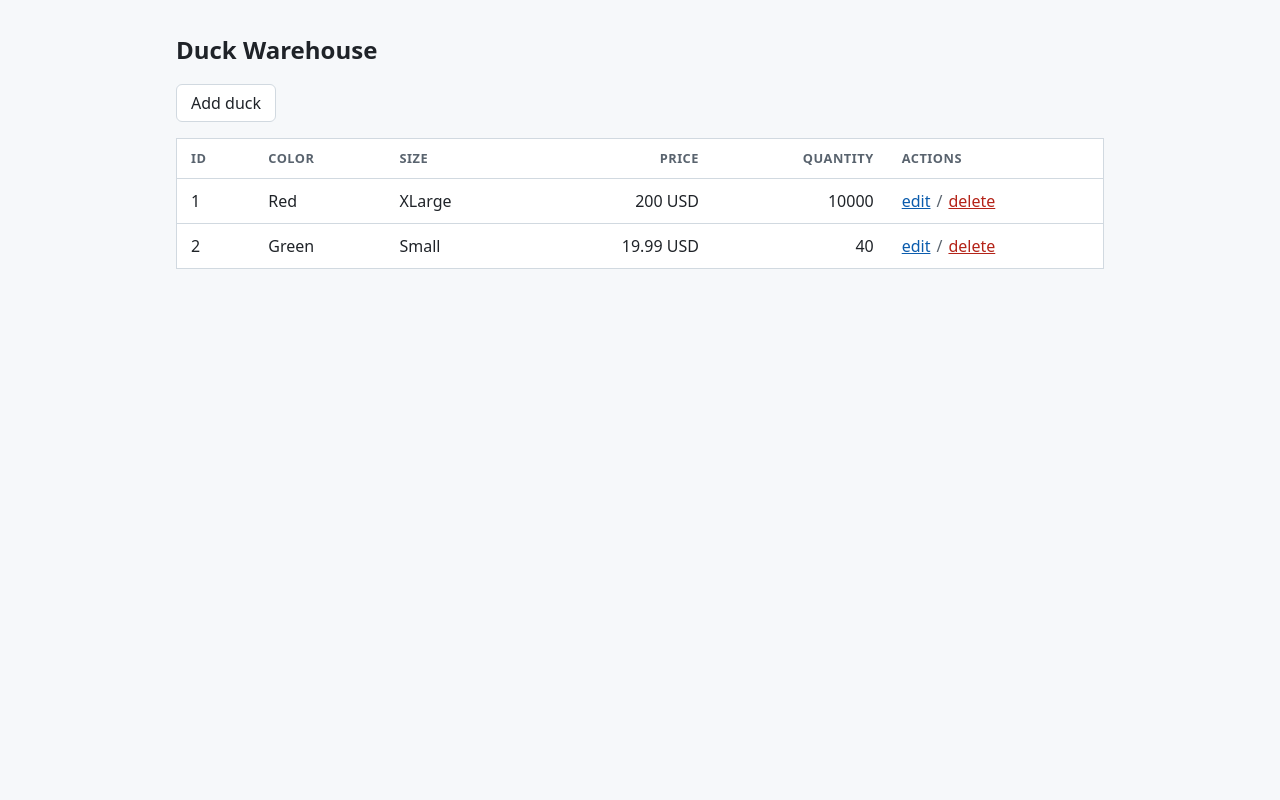
WarehousePage › deleting a duck › deletes on confirm, reloads the listing and says it is done
The width and height of the screenshot is (1280, 800).
Click the button with aria-label "Delete duck 1". click: {"x": 972, "y": 201}
box: left=948, top=189, right=995, bottom=213
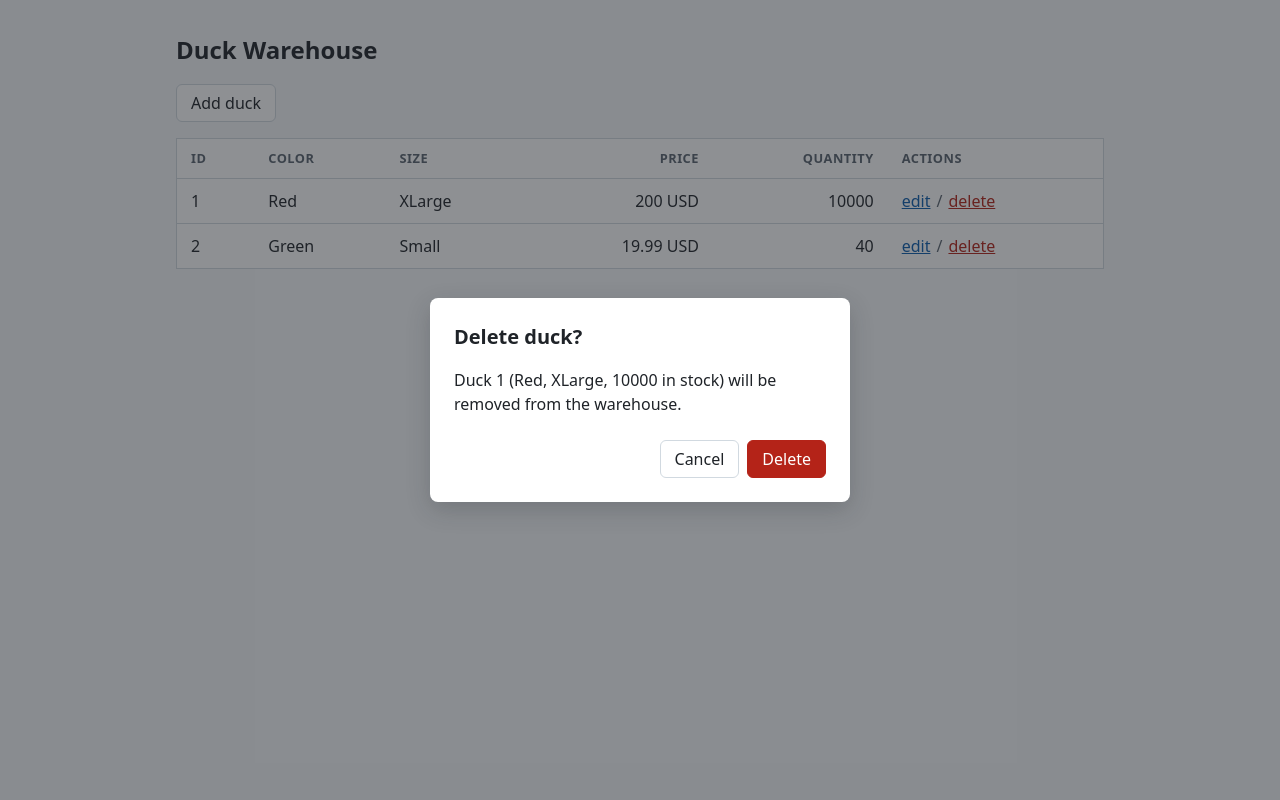
Click the button "Delete". click: {"x": 787, "y": 459}
box: left=747, top=440, right=826, bottom=478
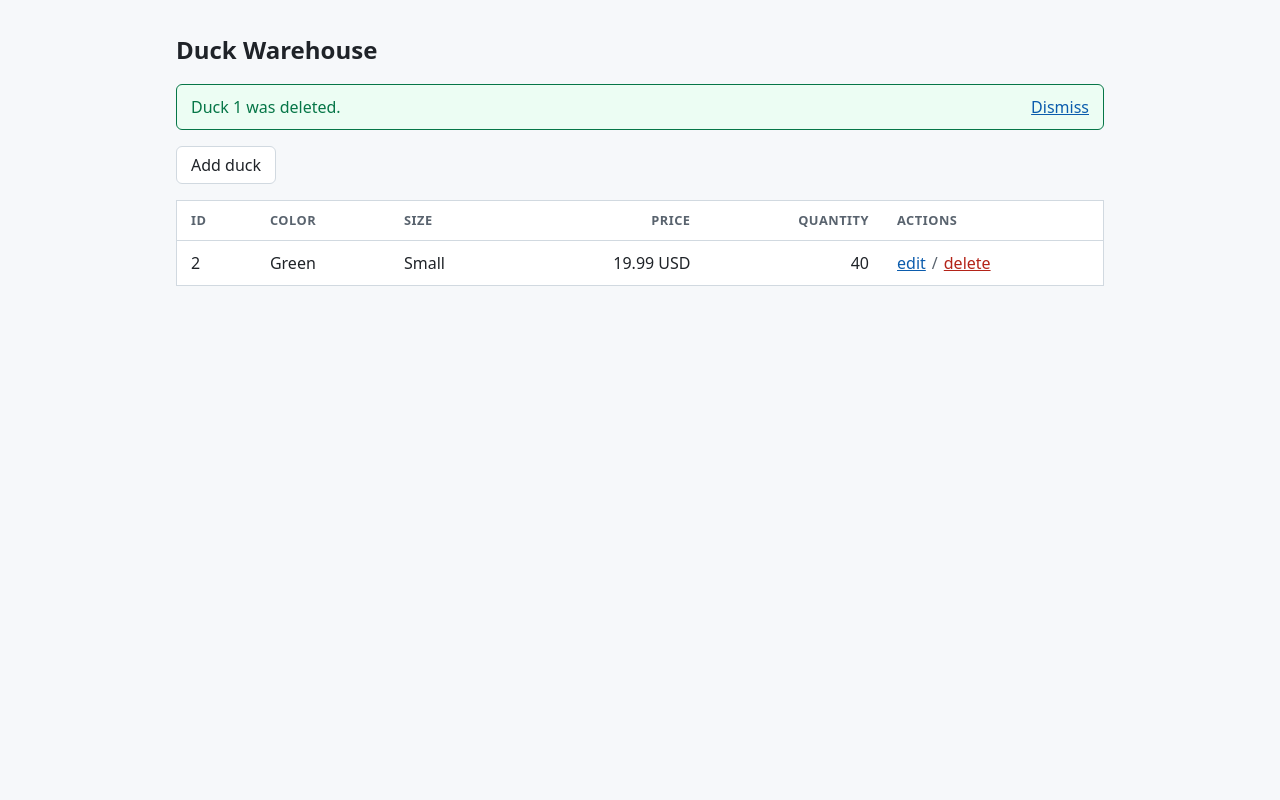
expect the message shows "Duck 1 was deleted.": met, box left=191, top=96, right=341, bottom=118
expect the dialog is gone: met
